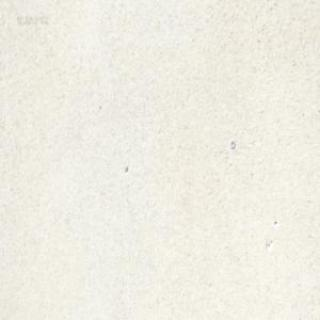Washertrack_idkeyframe: (229, 138, 234, 148)
